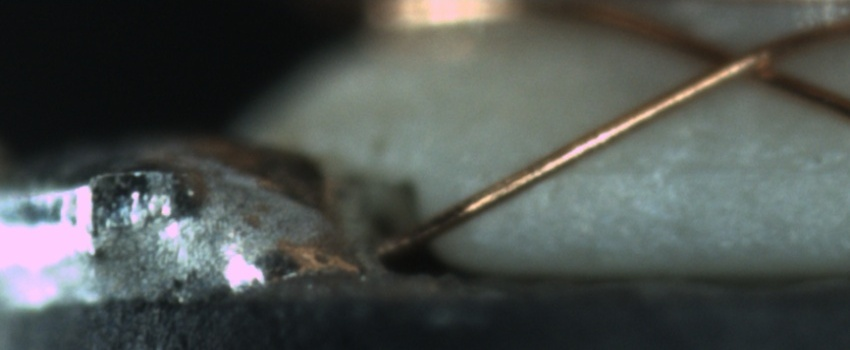CL: (687, 29, 794, 92)
DL: (571, 138, 850, 202)
